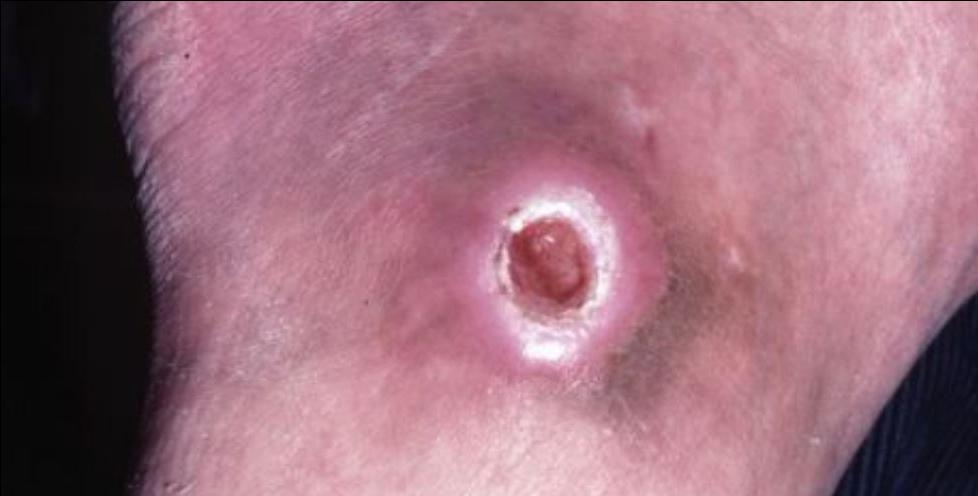Stage2: (473, 146, 639, 382)
